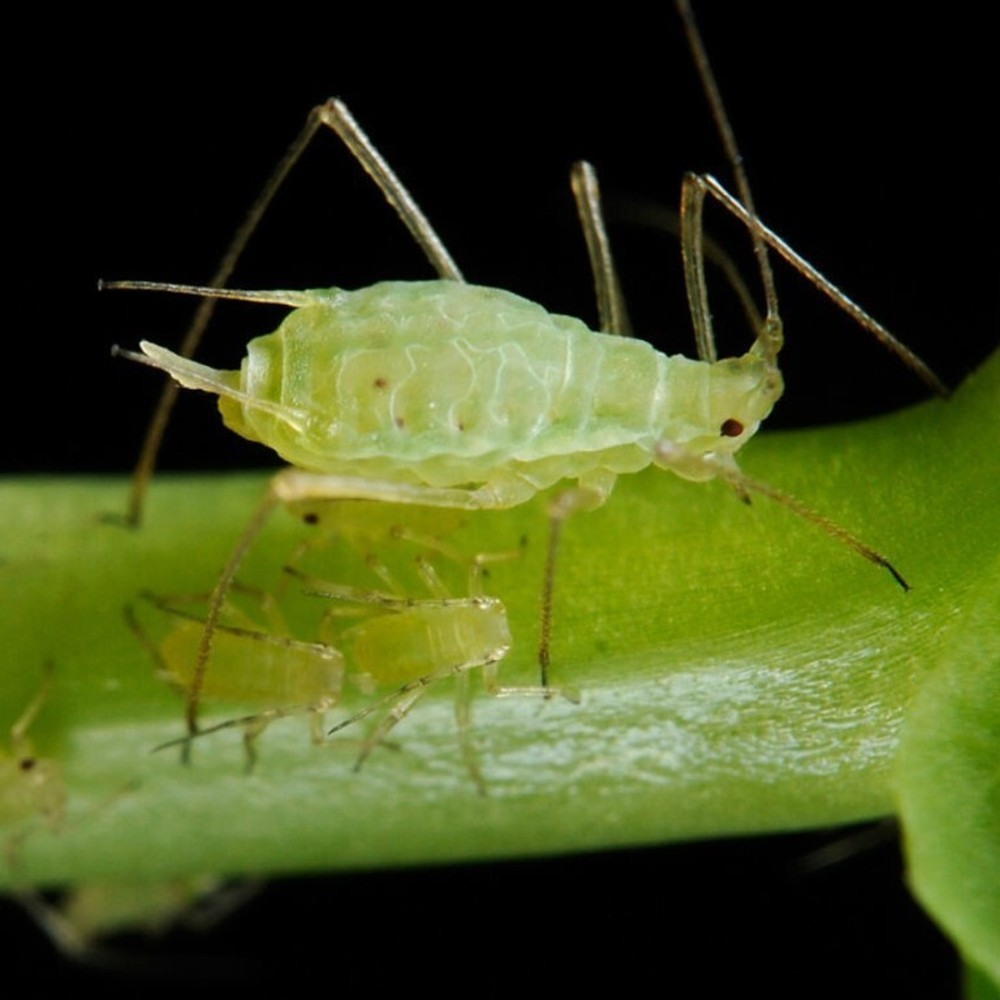Pulgon: (110, 85, 945, 610), (308, 555, 555, 756), (133, 578, 354, 748)
